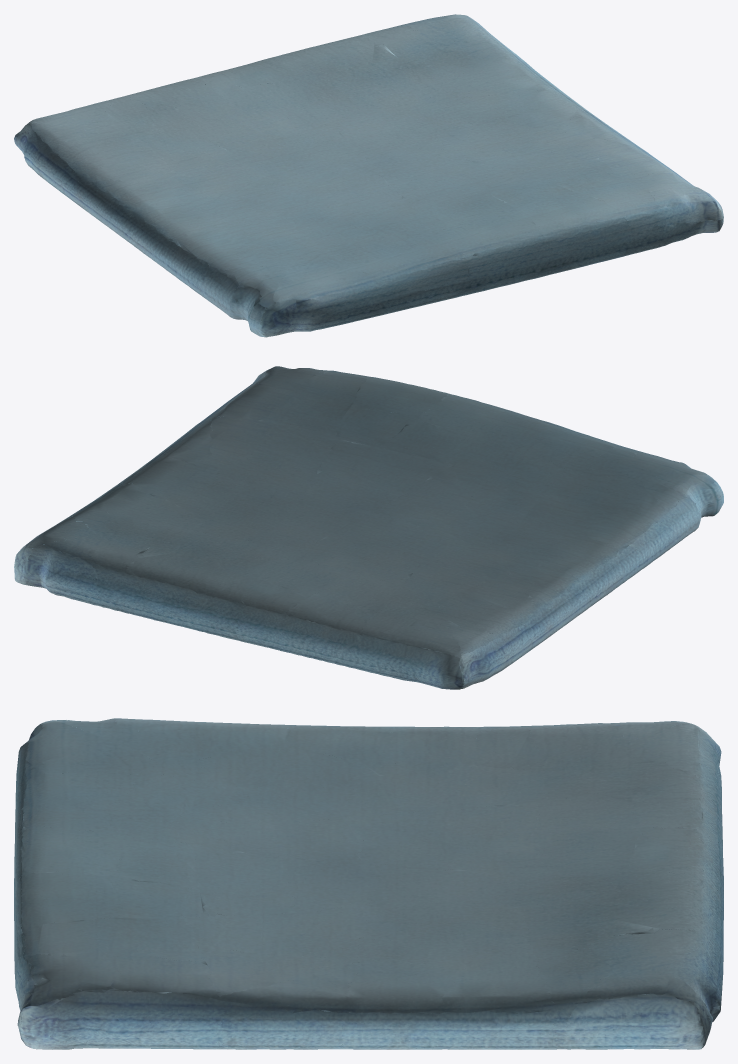
The model's file is image_0000_segmented.glb.
The picture shows the model from 3 angles, top to bottom: view 1: azimuth 30°, elevation 25°; view 2: azimuth 150°, elevation 25°; view 3: azimuth 270°, elevation 25°; orthographic projection. The views are drawn at different scales.
Visible parts, largest first — view 1: Model; view 2: Model; view 3: Model.
Boxes of the visible parts, left/top/right/bottom form: Model: left=14, top=14, right=723, bottom=337; Model: left=14, top=366, right=723, bottom=689; Model: left=14, top=718, right=723, bottom=1049.
Bounding box in the file's own units: 0.1 × 0.01 × 0.1.
Materials: 1 (1 with a texture image).
